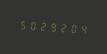five: (17, 17, 26, 32)
four: (77, 21, 86, 36)
nine: (47, 19, 56, 34)
two: (37, 18, 46, 33), (57, 20, 66, 34)
zero: (27, 18, 36, 32), (67, 21, 76, 35)
